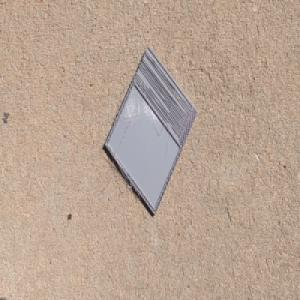PlasticPart: (103, 43, 199, 216)
